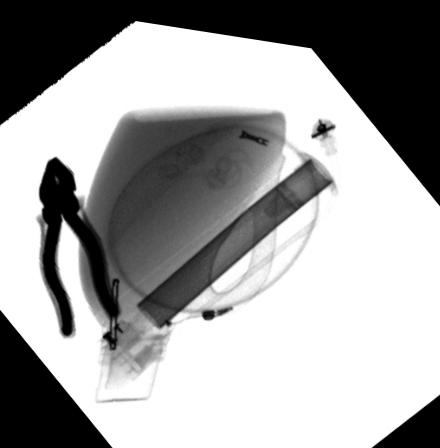Pliers: (34, 153, 120, 338)
